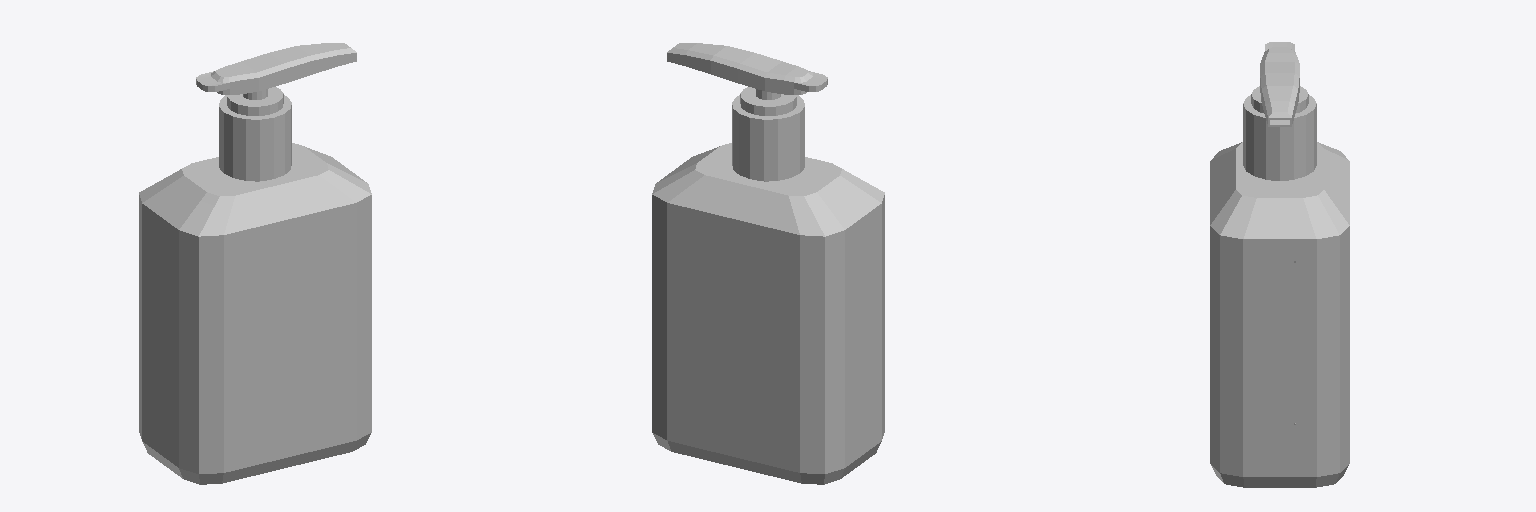
File: bottle.obj
3 renders of one model, left to right at view 1: azimuth 30°, elevation 25°; view 2: azimuth 150°, elevation 25°; view 3: azimuth 270°, elevation 25°, orthographic.
Parts seen in each view (by area): view 1: Cube.001_Cube.000; view 2: Cube.001_Cube.000; view 3: Cube.001_Cube.000.
Part boxes in pixels (left/top/right/bottom): Cube.001_Cube.000: left=139, top=43, right=371, bottom=484; Cube.001_Cube.000: left=652, top=43, right=884, bottom=484; Cube.001_Cube.000: left=1210, top=42, right=1349, bottom=487.
Size of the model in its own units: 2.01 by 3.9 by 1.27.